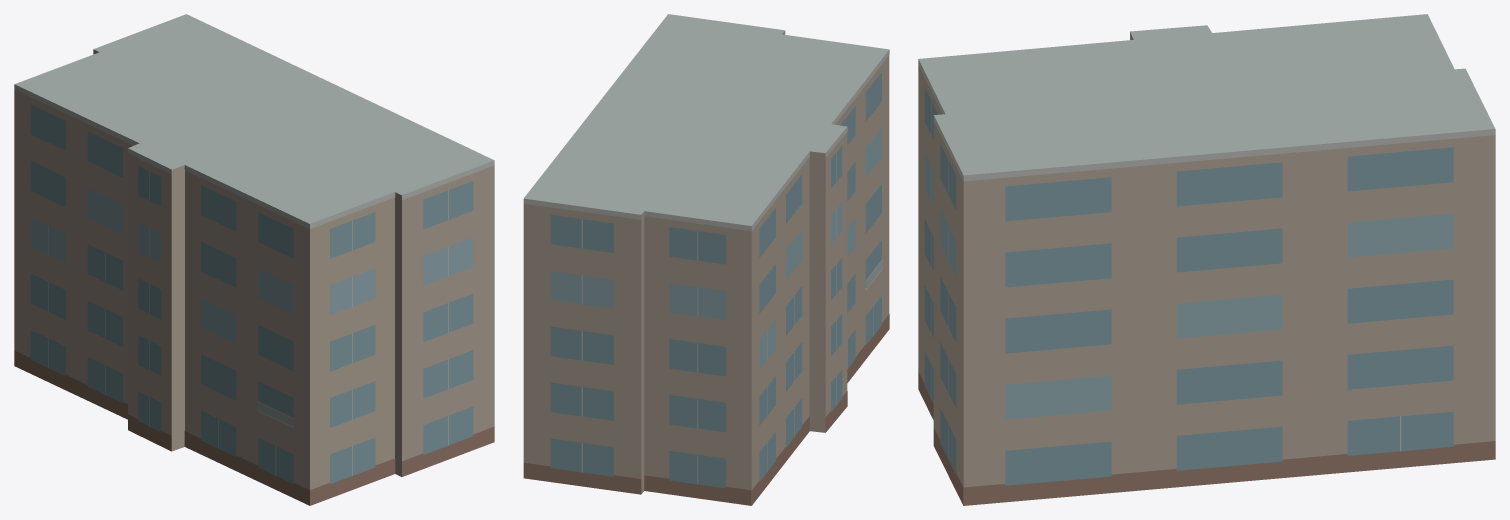
Rendered from survey-upis-32469145.glb.
3 renders of one model, left to right at view 1: azimuth 30°, elevation 25°; view 2: azimuth 150°, elevation 25°; view 3: azimuth 270°, elevation 25°, orthographic. The views are drawn at different scales.
Parts seen in each view (by area): view 1: survey-upis-32469145.tmp; view 2: survey-upis-32469145.tmp; view 3: survey-upis-32469145.tmp.
Part boxes in pixels (box(x1,y1,x2,y2)): survey-upis-32469145.tmp: box(14, 14, 494, 505); survey-upis-32469145.tmp: box(523, 14, 889, 505); survey-upis-32469145.tmp: box(918, 14, 1495, 505).
Size of the model in its own units: 14.05 by 13.4 by 21.22.
